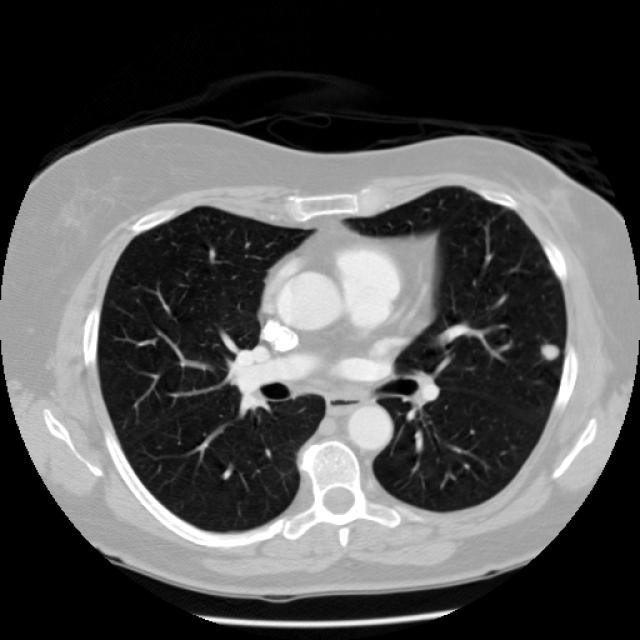nodule: (526, 330, 569, 372)
